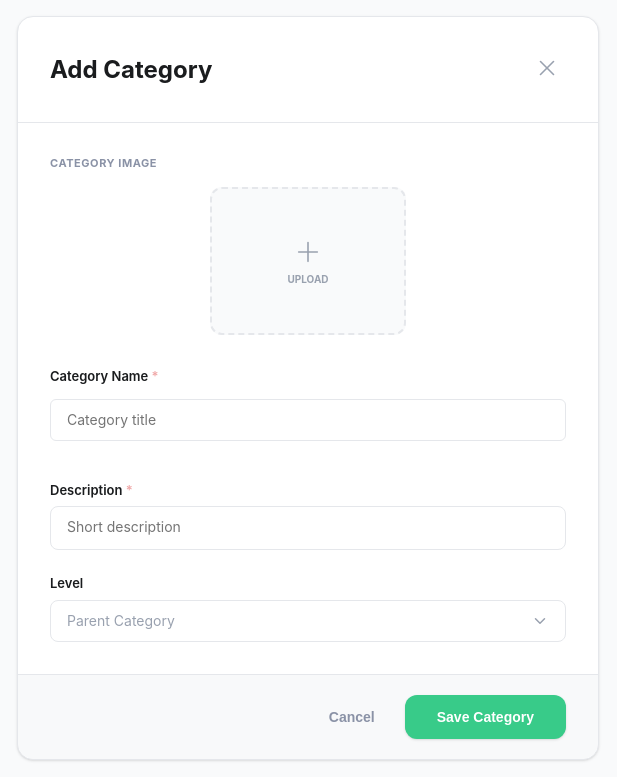
Test: Component: CategoryForm › should reset parent category to null when selecting None
Click the text "Parent Category".
click(121, 621)  # box [67, 611, 175, 631]
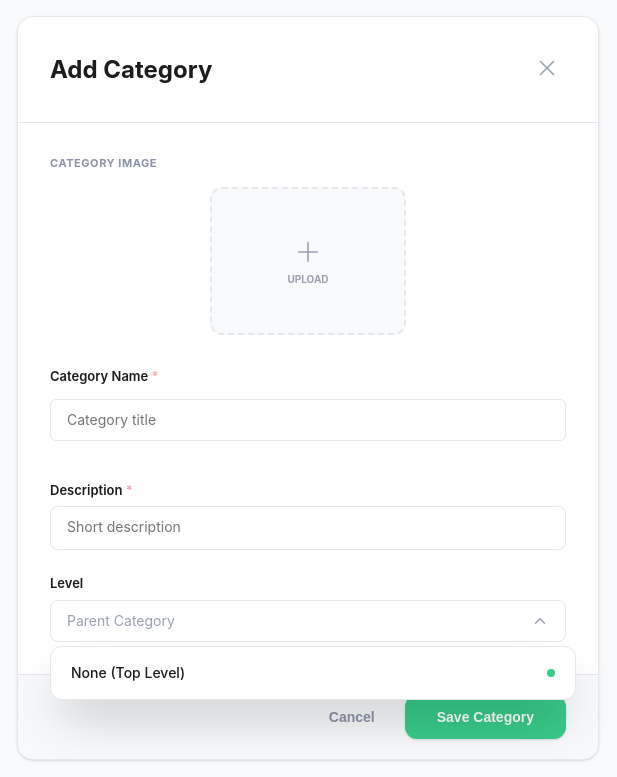
Click the text "None (Top Level)".
click(128, 673)  # box [71, 663, 185, 683]
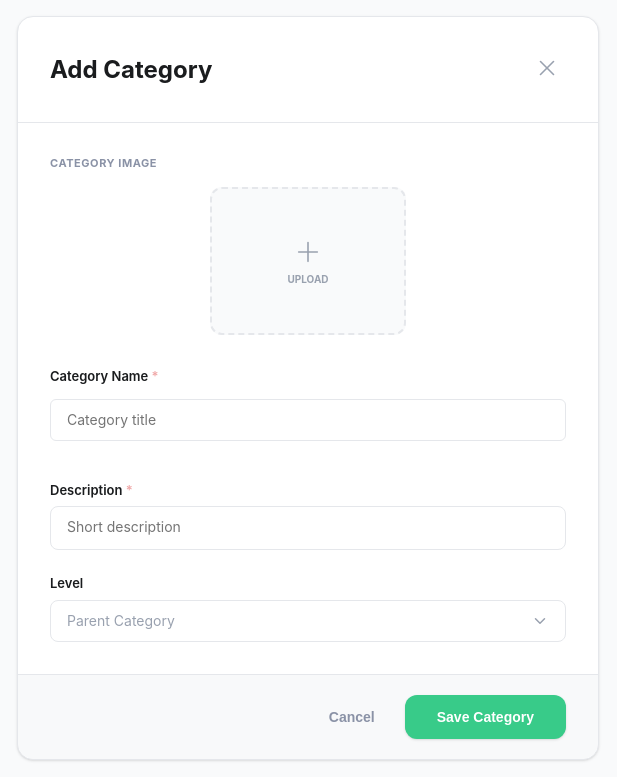
expect the text "None" is gone: met
